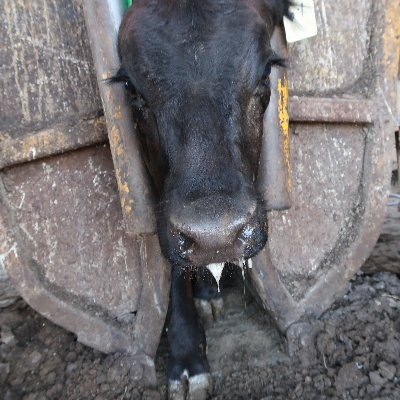fidget_spinner: (151, 204, 264, 272)
